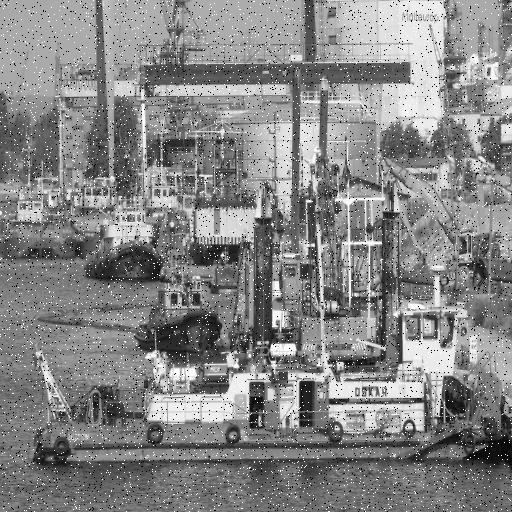tugboat: (25, 300, 512, 470), (1, 141, 78, 265), (134, 274, 224, 359), (84, 205, 167, 287), (74, 176, 138, 250)
